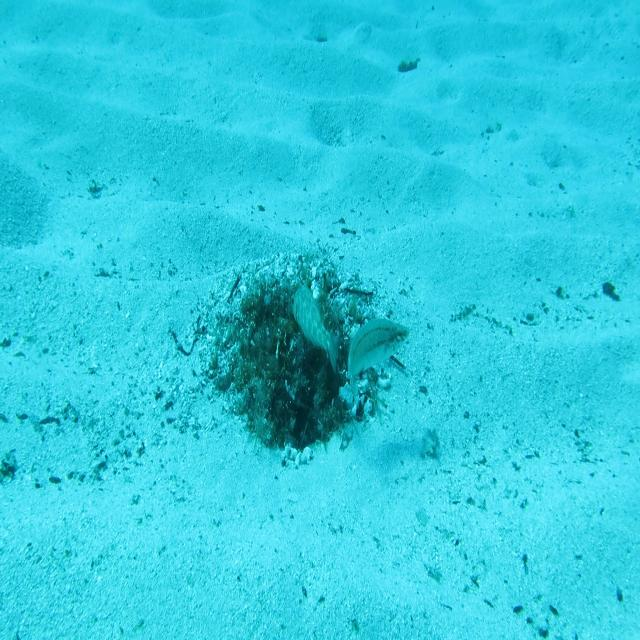NIP_CORE: (289, 276, 342, 377)
core_nest: (269, 301, 311, 352)
female: (345, 316, 412, 411)
nest: (178, 226, 394, 480)
vegetation: (395, 55, 422, 75)
